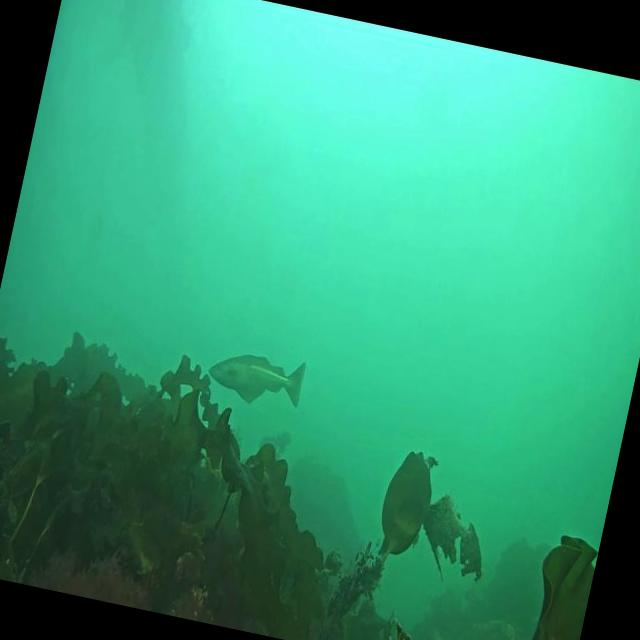fish: (203, 341, 308, 412)
